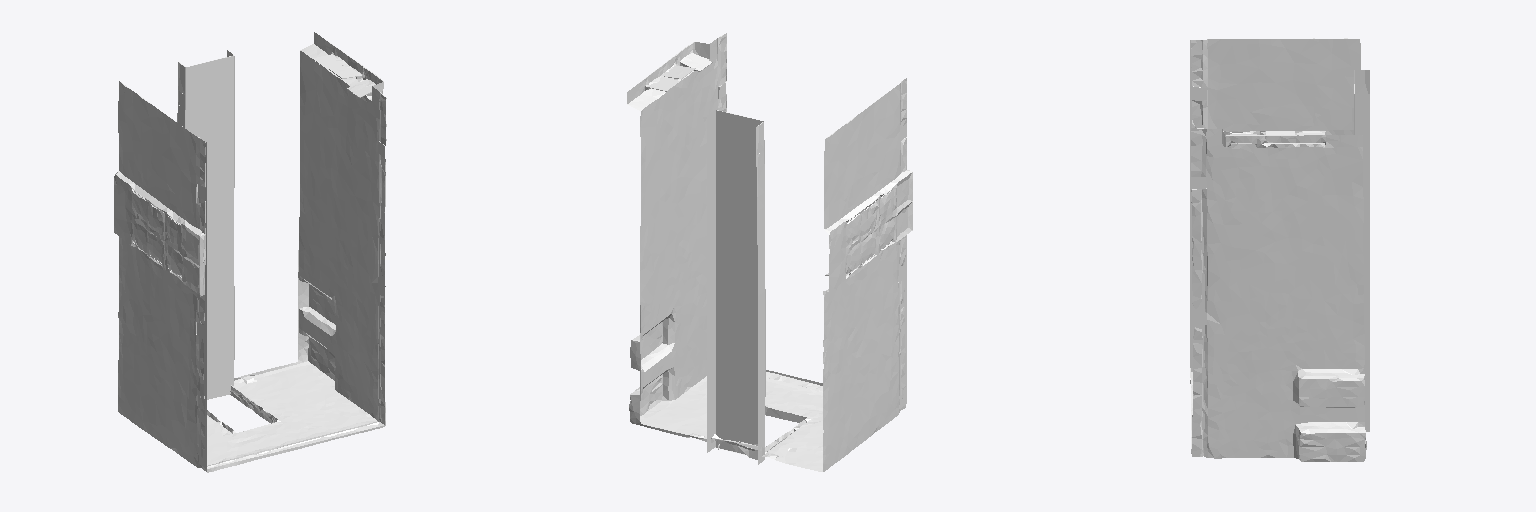
3 views of the same model, side by side, from view 1: azimuth 30°, elevation 25°; view 2: azimuth 150°, elevation 25°; view 3: azimuth 270°, elevation 25° (orthographic).
Visible parts, largest first — view 1: default001ert; view 2: default001ert; view 3: default001ert.
Part boxes in pixels (x1,y1,x2,y2): default001ert: (114,32,386,472); default001ert: (627,33,912,471); default001ert: (1190,38,1369,461).
Bounding box in the file's own units: 2.52 × 4 × 1.92.